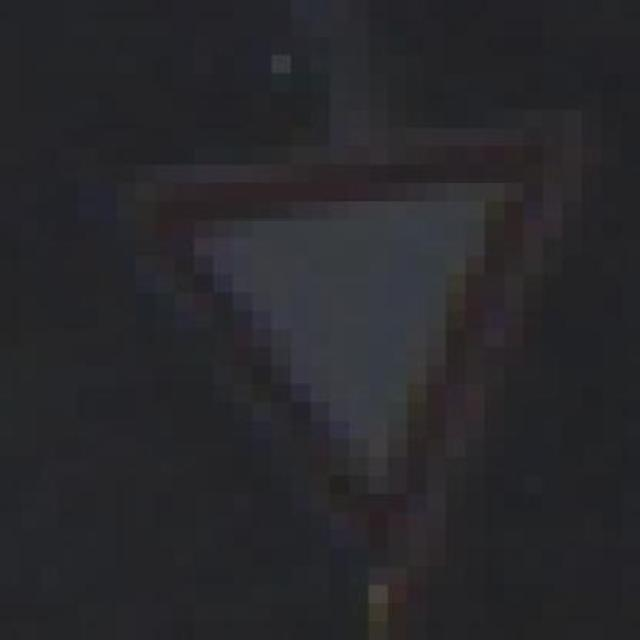Give Way: (116, 108, 621, 621)
